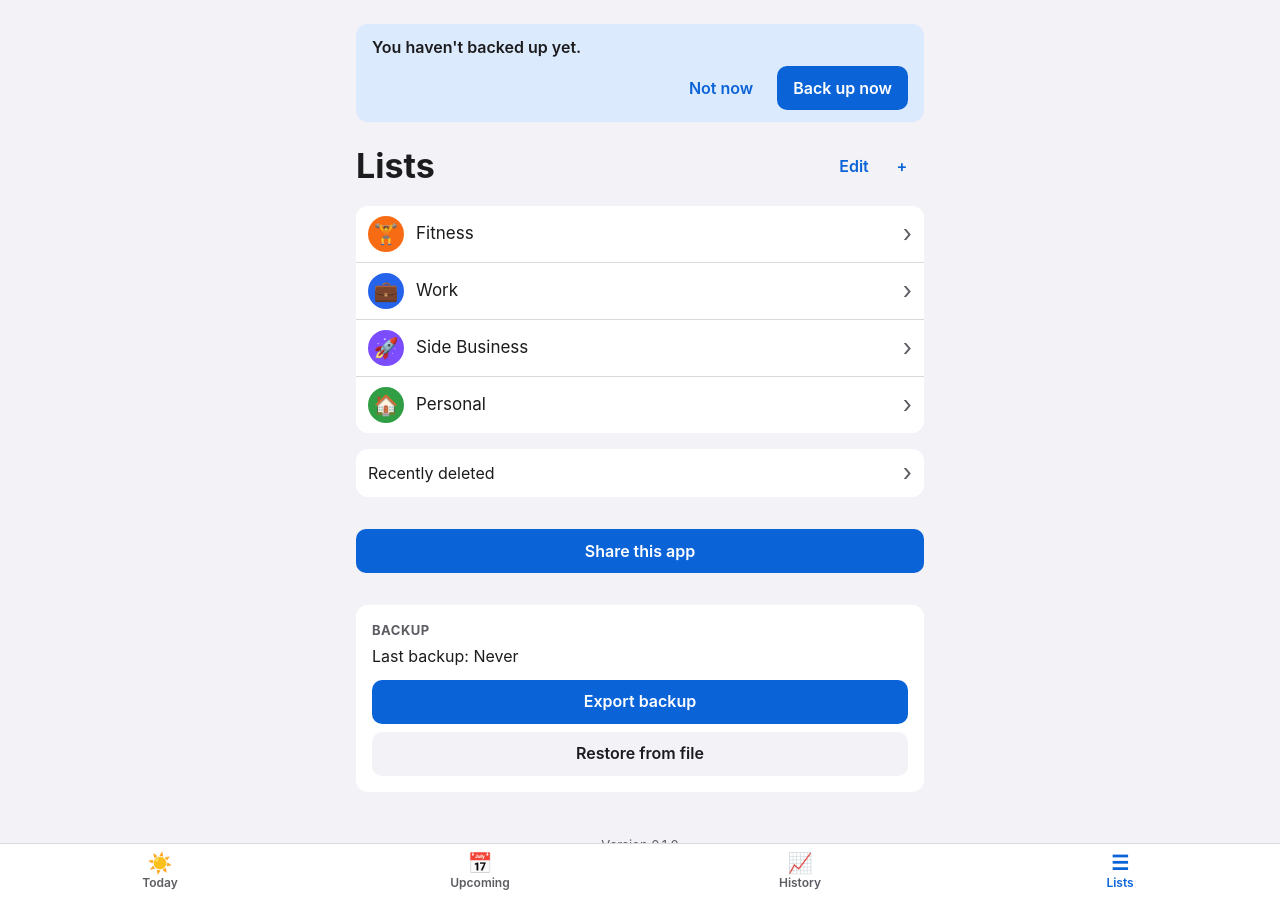
Test: export › shares a dated file holding everything, then shows the backup date
The image size is (1280, 900).
Click the button "Export backup": click(640, 702) x1=372 y1=680 x2=908 y2=724
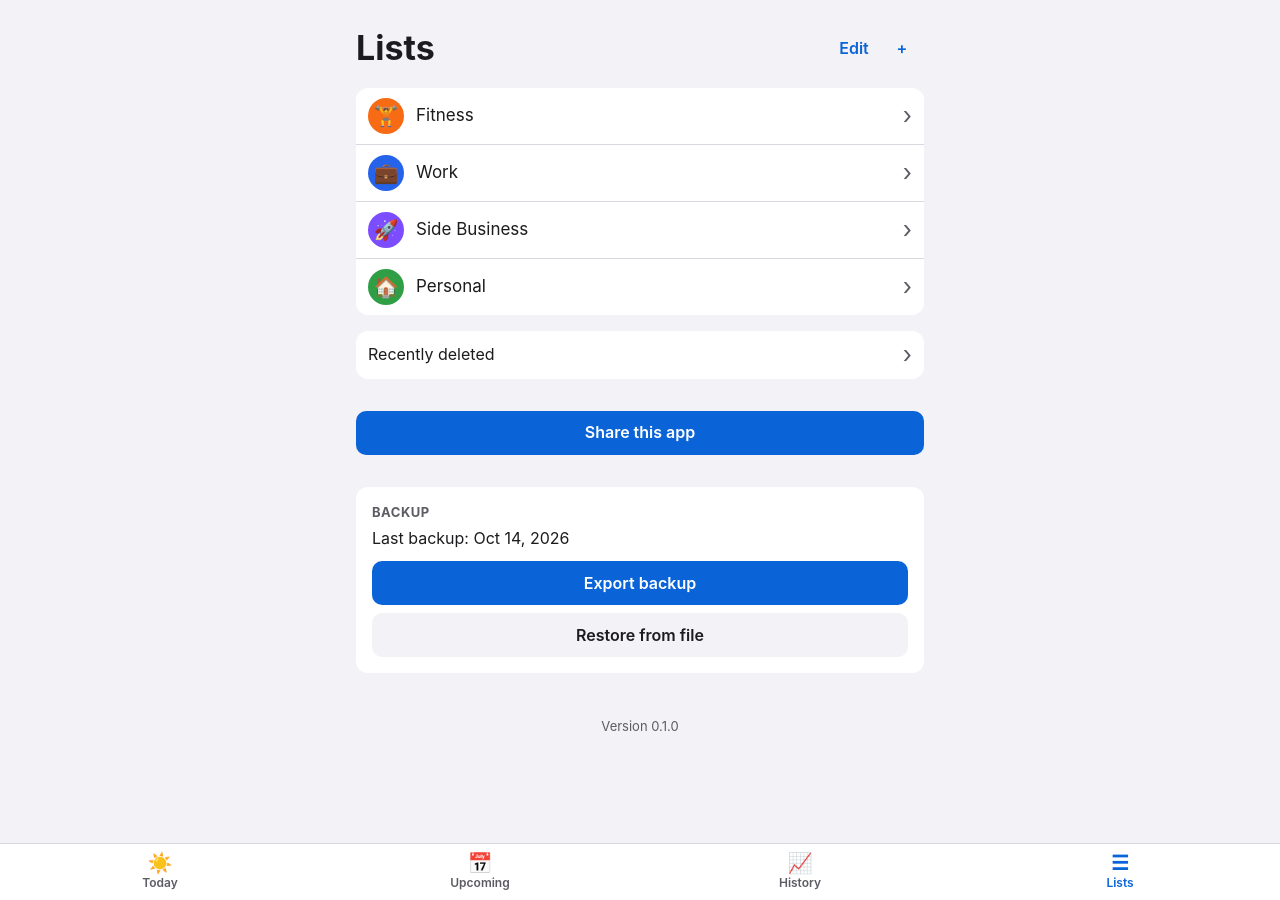
Check: the element "Backup" shows "Last backup: Oct 14, 2026", box x1=372 y1=528 x2=570 y2=548
